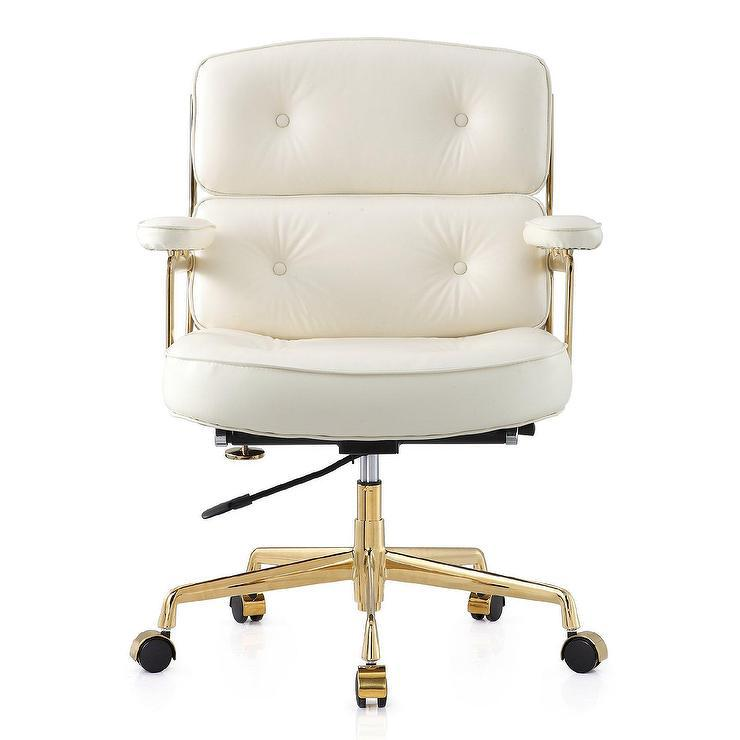chairs: (124, 23, 611, 706)
